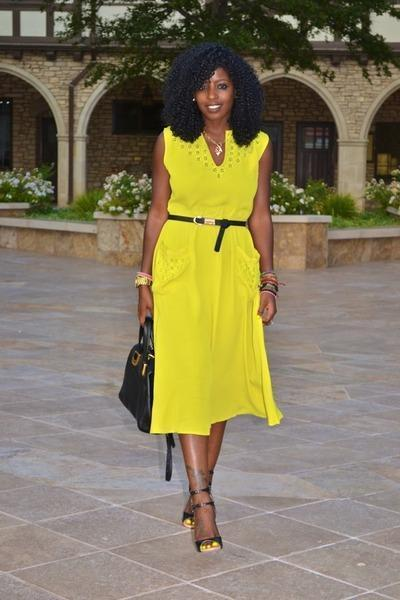bag: (119, 324, 154, 433)
dress: (149, 130, 281, 443)
shoe: (182, 485, 222, 551)
